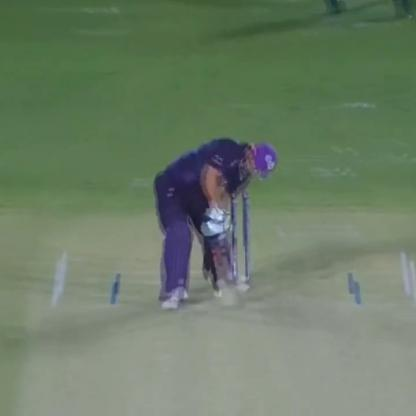ball: (238, 283, 254, 294), (237, 272, 248, 284)
bat: (199, 210, 240, 292)
pitch: (3, 260, 405, 415)
